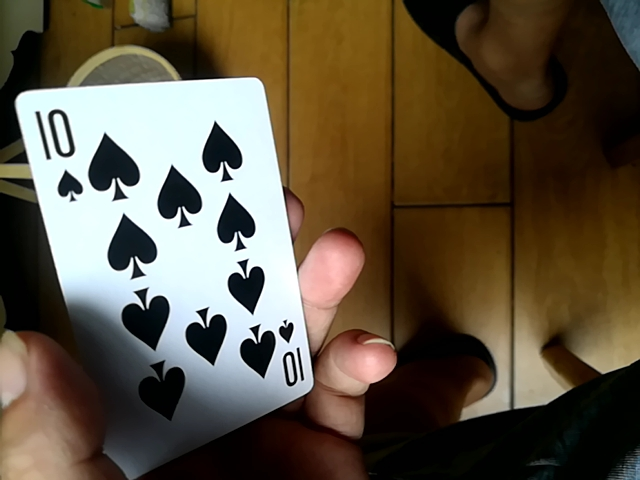ht 10: (15, 70, 317, 467)
